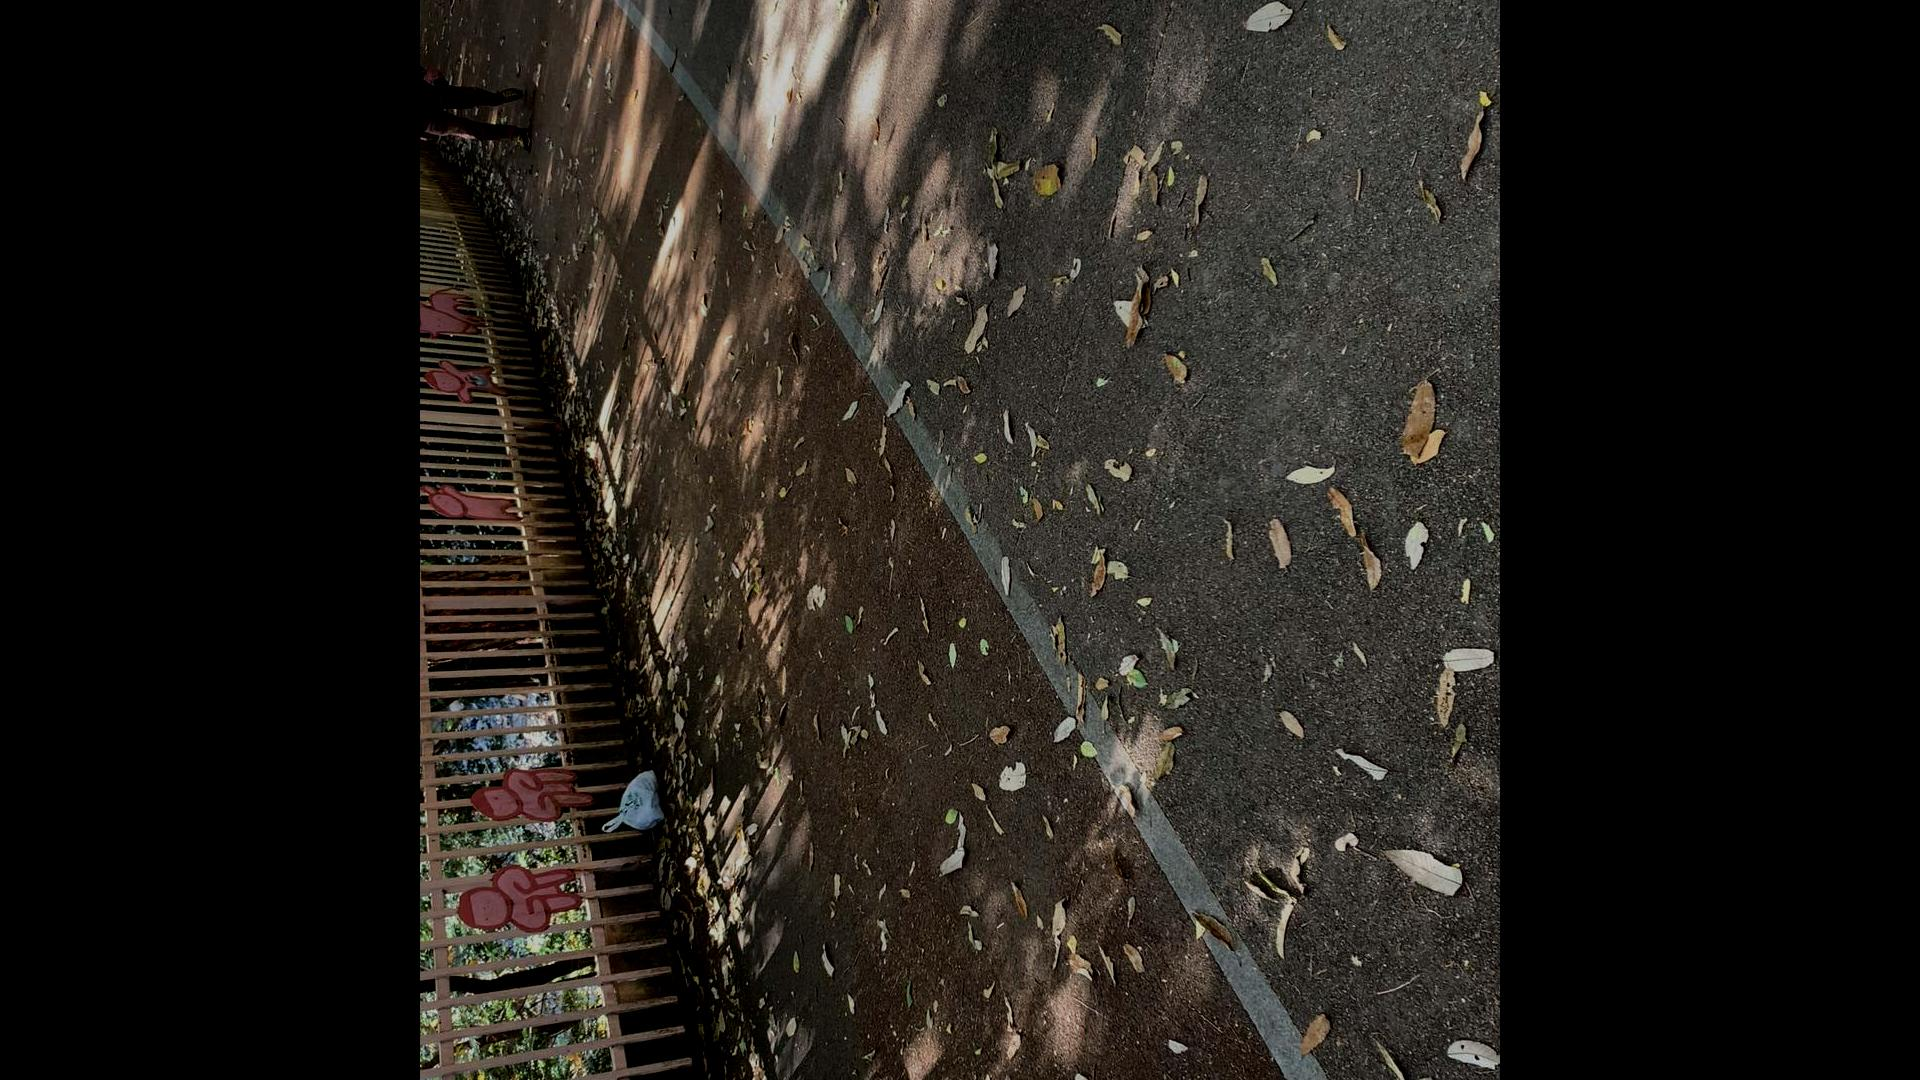white_bag: (591, 750, 678, 848)
